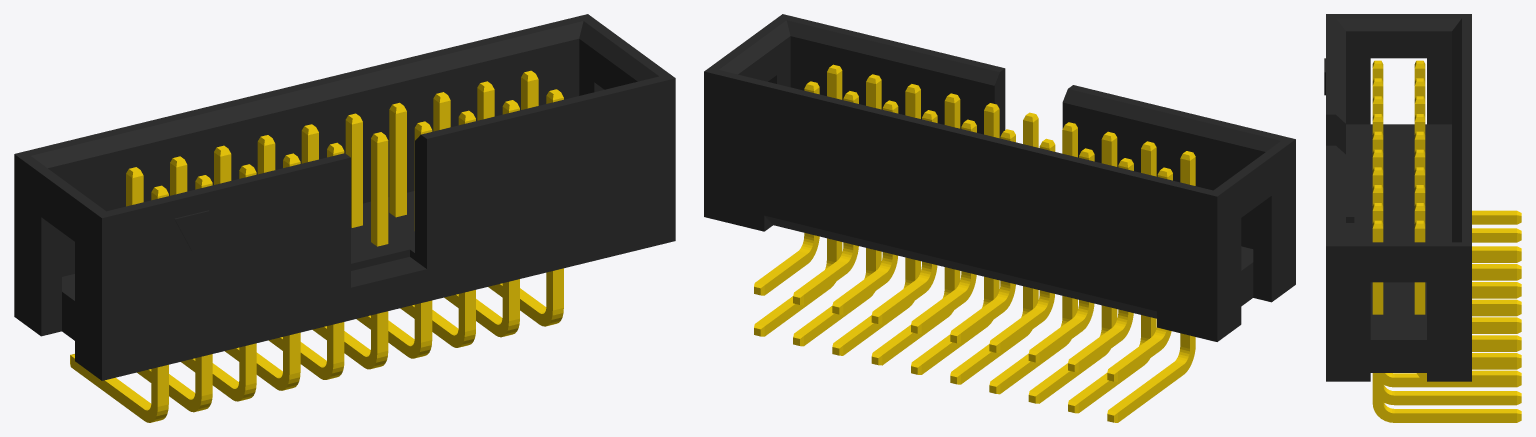
Rendered from DS1013-20R (IDC-20R CONNFLY).obj.
3 views of the same model, side by side, from view 1: azimuth 30°, elevation 25°; view 2: azimuth 150°, elevation 25°; view 3: azimuth 270°, elevation 25° (orthographic). The views are drawn at different scales.
Parts seen in each view (by area): view 1: DS1013-20R_(IDC-20R_CONNFLY); view 2: DS1013-20R_(IDC-20R_CONNFLY); view 3: DS1013-20R_(IDC-20R_CONNFLY).
Part boxes in pixels (x1,y1,x2,y2): DS1013-20R_(IDC-20R_CONNFLY): (14, 14, 675, 422); DS1013-20R_(IDC-20R_CONNFLY): (704, 14, 1295, 422); DS1013-20R_(IDC-20R_CONNFLY): (1324, 14, 1521, 422).
Bounding box in the file's own units: 0.0179 × 0.00754 × 0.0064.
